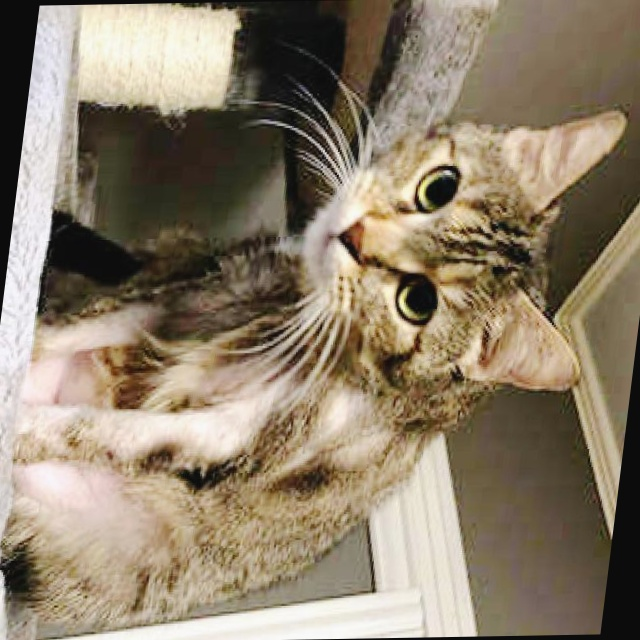hairloss: (75, 406, 251, 451), (12, 472, 156, 521), (33, 303, 149, 361)
